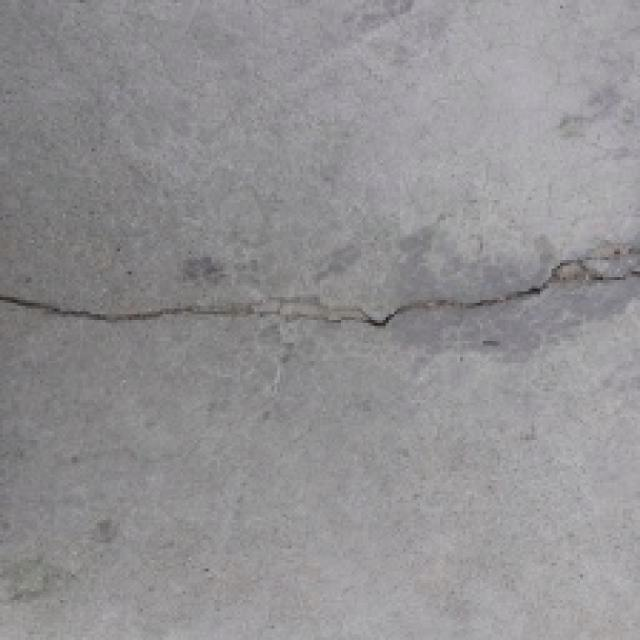SurfaceCrack: (2, 256, 640, 336)
